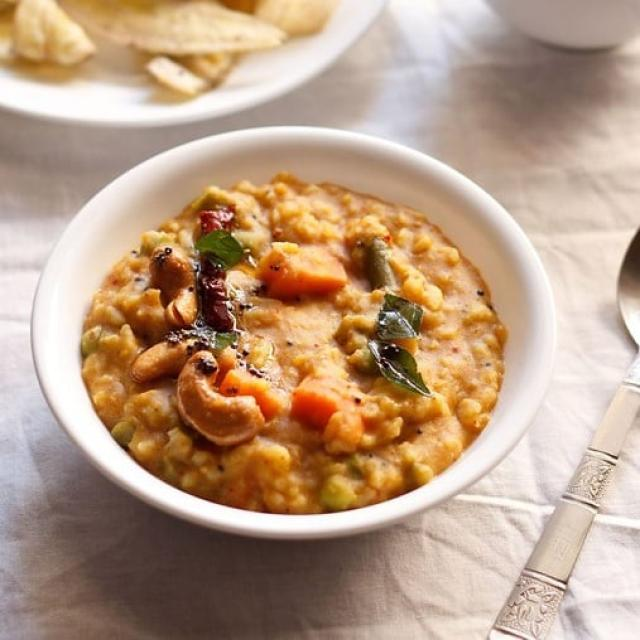bisibele bath: (22, 113, 563, 558)
